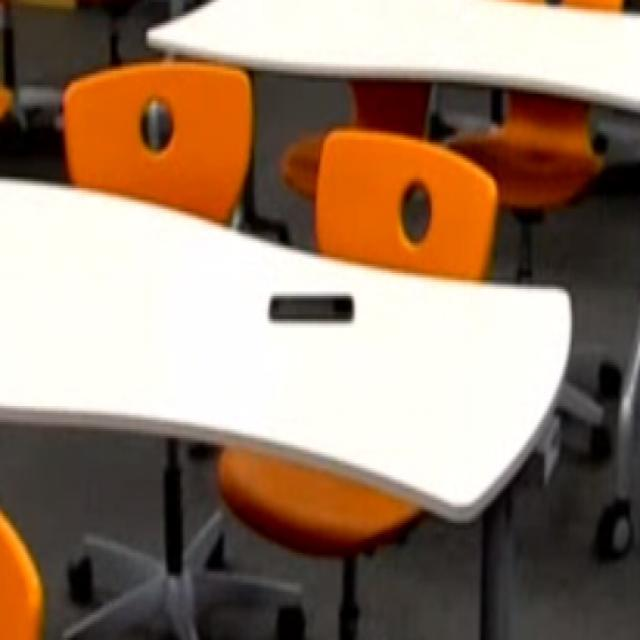phone: (247, 267, 373, 346)
